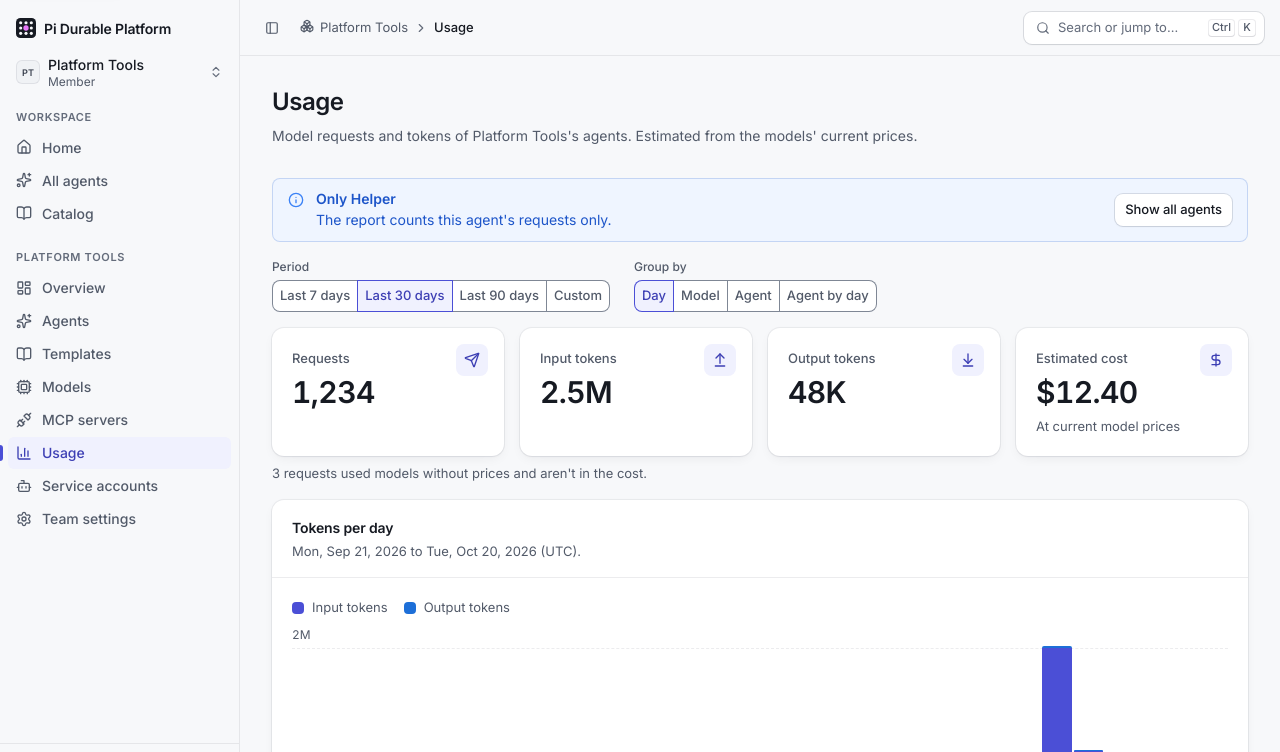
Test: Team › Usage › narrows the report to the agent in ?agentId=, with a way to show all agents
Expected: the text "Only Helper" is shown, [316, 190, 396, 207]
Click the button "Show all agents" at (1174, 210), box [1115, 194, 1232, 226]
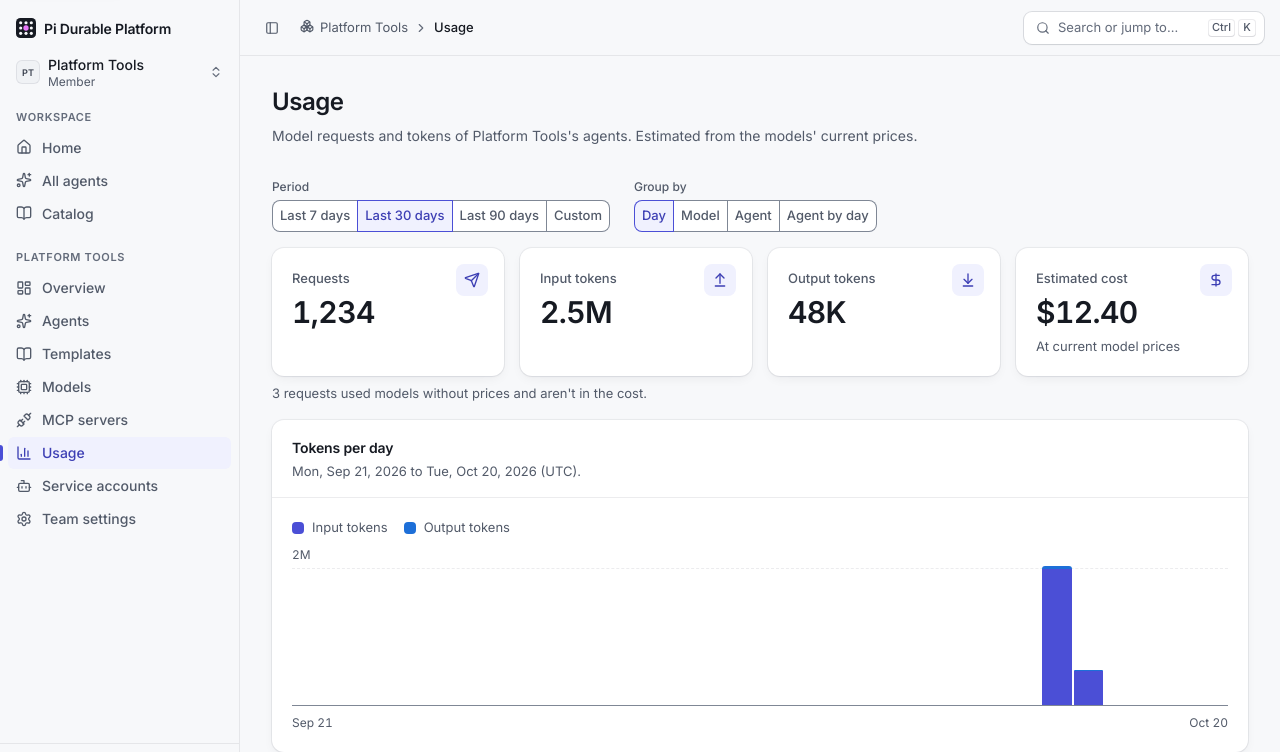
Expected: the text "Only Helper" is gone
